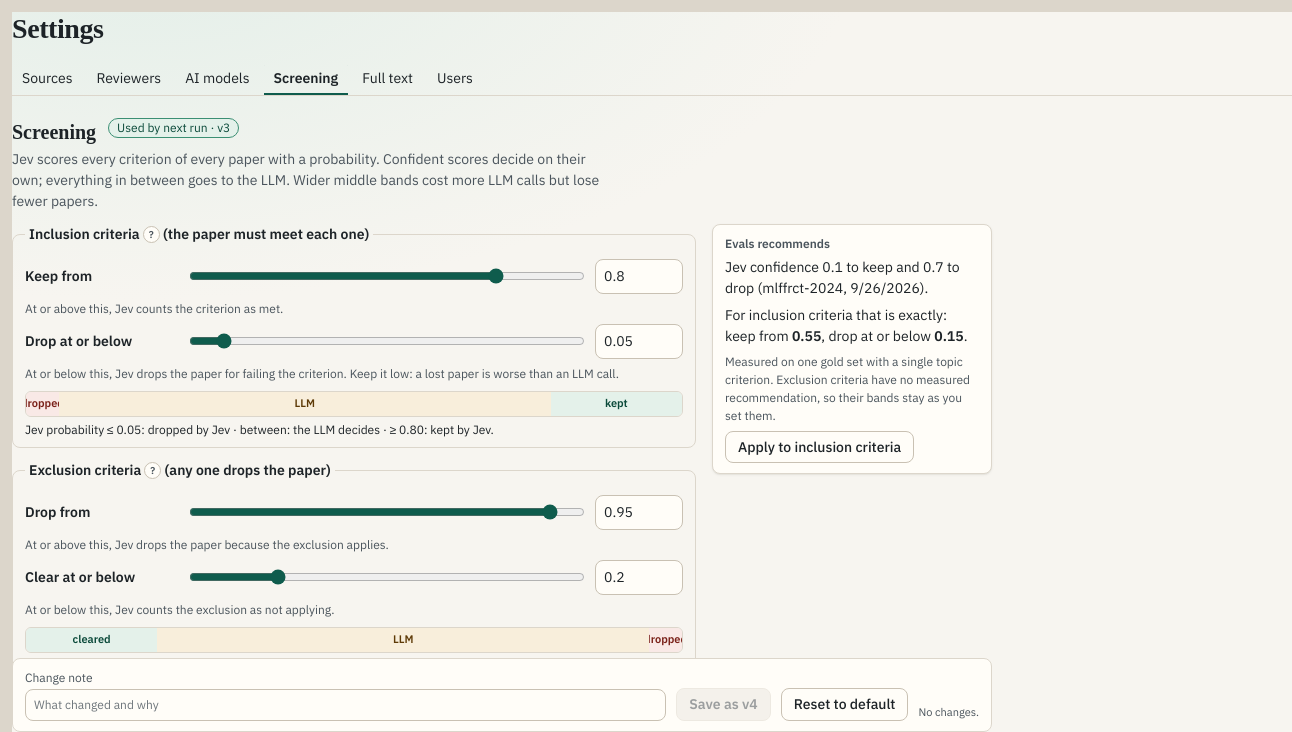
it: Settings → Screening › explains the bands in words and saves the four thresholds as the next version with a note
This screenshot has width=1292, height=732.
expect the text "Used by next run · v3" is shown: met, box [108,118,239,138]
expect the text "≤ 0.05: dropped by Jev · between: the LLM decides · ≥ 0.80: kept by Jev" is shown: met, box [25,422,494,437]
Replace the text in the number field labelled "Keep from" with "0.9": x=639, y=276 [595,259,683,294]
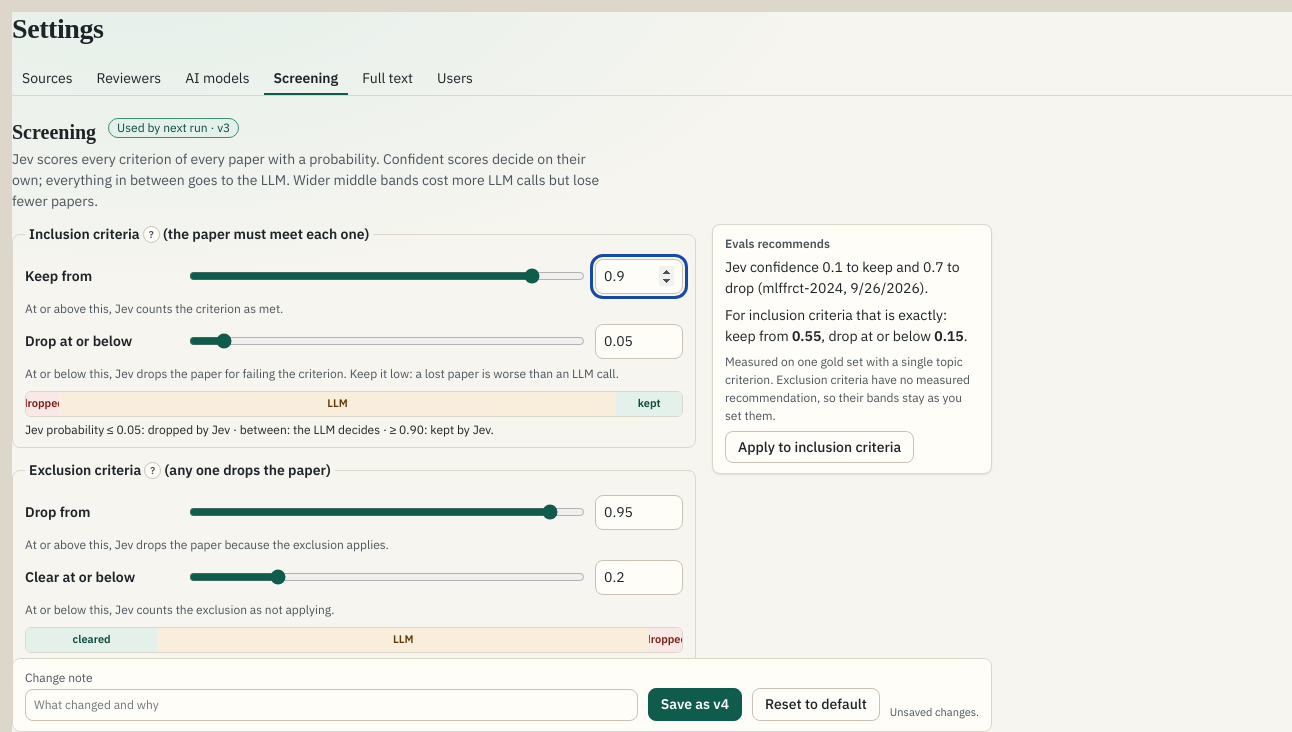
expect the text "≥ 0.90: kept by Jev" is shown: met, box [25,422,494,437]
In the field labelled "Change note": x=331, y=705 [25,689,638,721], type "stricter keep"
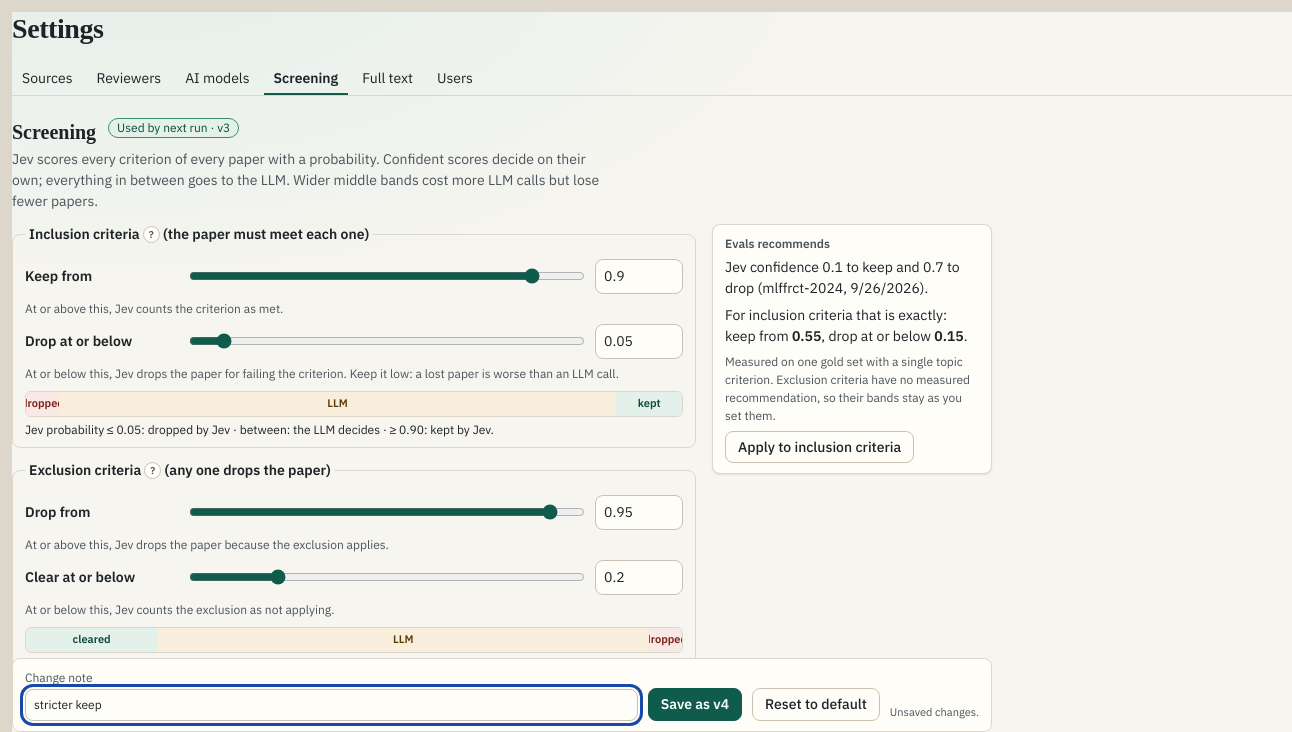
Click the button "Save as v4": x=695, y=705 [648,689,742,721]
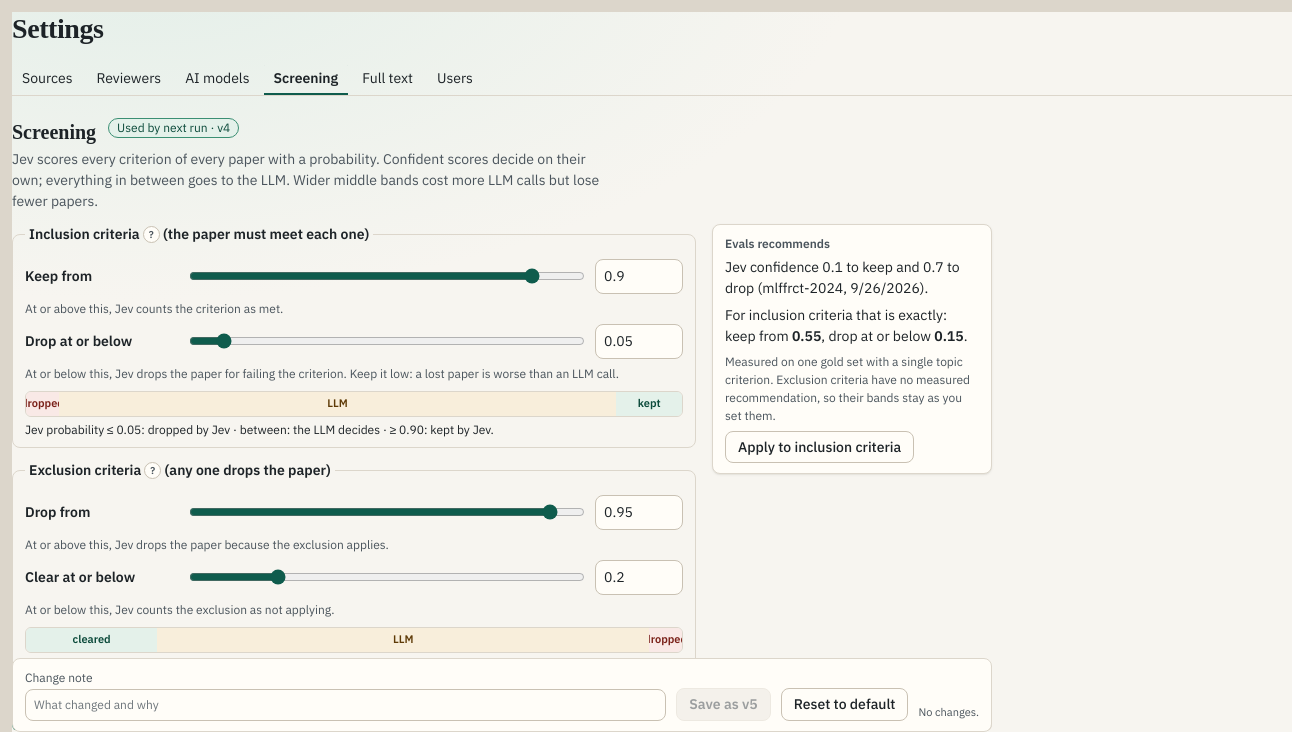
expect the text "Saved as v4. The next run uses it." is shown: met, box [12,692,992,731]
